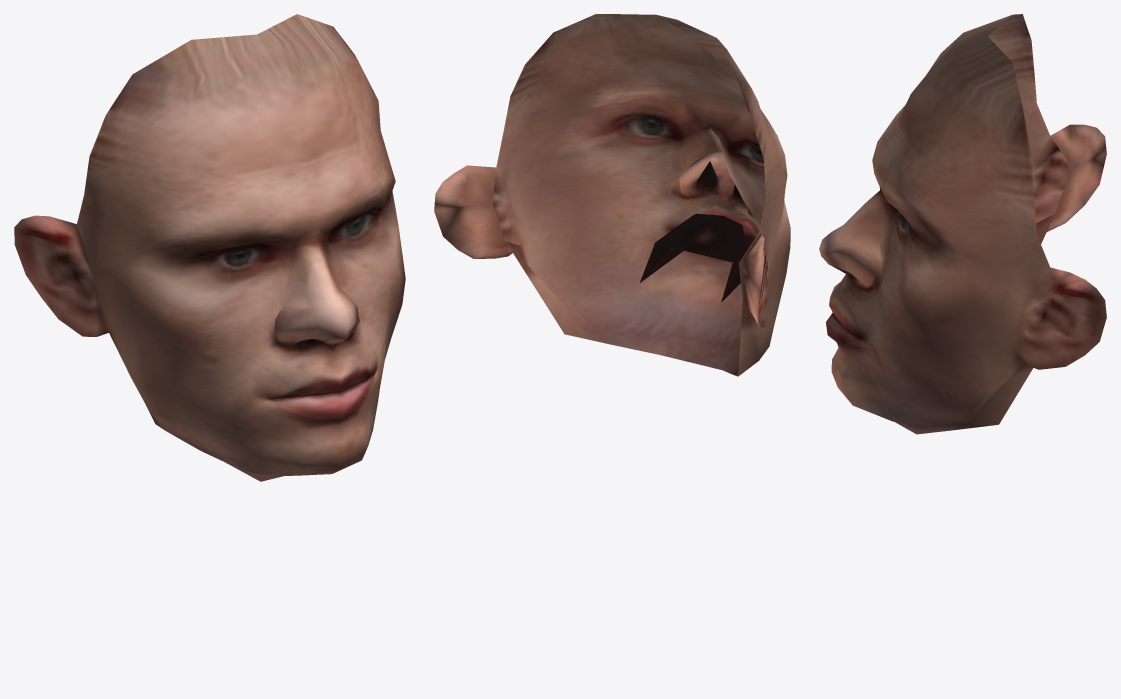
The model's file is nor-haaland.glb.
The picture shows the model from 3 angles, left to right: view 1: azimuth 30°, elevation 25°; view 2: azimuth 150°, elevation 25°; view 3: azimuth 270°, elevation 25°; orthographic projection. The views are drawn at different scales.
Parts seen in each view (by area): view 1: nor-haaland; view 2: nor-haaland; view 3: nor-haaland.
Boxes of the visible parts, x1=… form: nor-haaland: x1=14, y1=14, x2=405, y2=481; nor-haaland: x1=434, y1=14, x2=790, y2=376; nor-haaland: x1=819, y1=14, x2=1106, y2=434.
Size of the model in its own units: 0.1736 by 0.3194 by 0.1287.
1 material, 1 textured.
